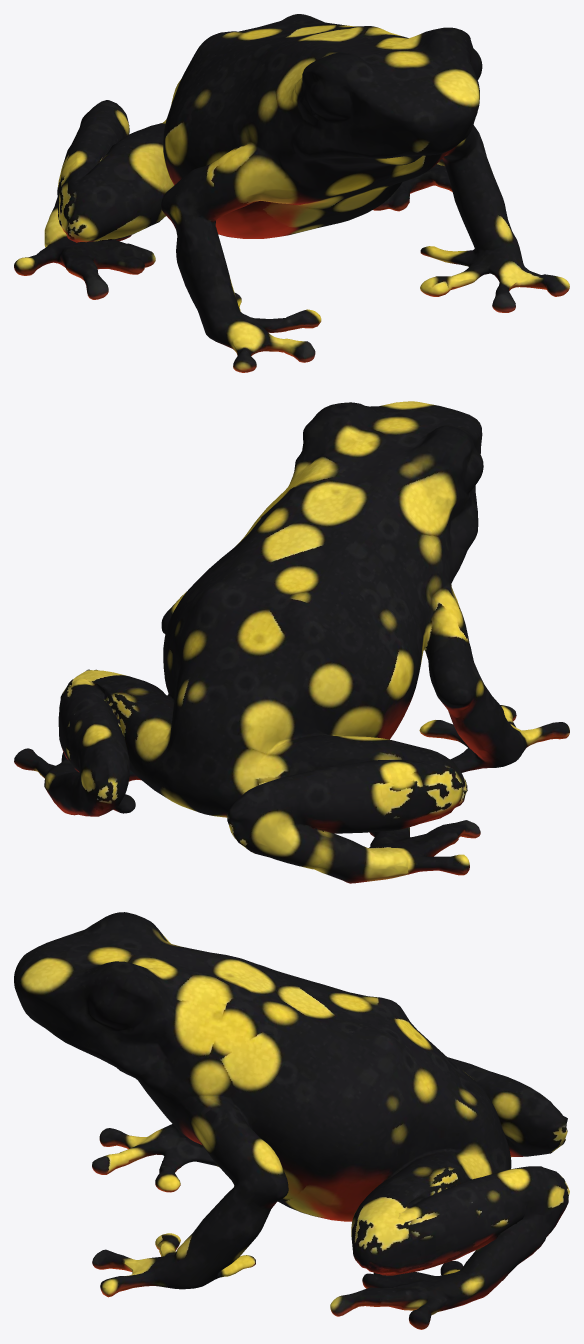
Rendered from bumblebee.glb.
3 views of the same model, one above another, from view 1: azimuth 30°, elevation 25°; view 2: azimuth 150°, elevation 25°; view 3: azimuth 270°, elevation 25° (orthographic). The views are drawn at different scales.
Parts seen in each view (by area): view 1: bumblebee; view 2: bumblebee; view 3: bumblebee.
Part boxes in pixels (x1=…): bumblebee: x1=14, y1=14, x2=569, y2=372; bumblebee: x1=14, y1=401, x2=569, y2=883; bumblebee: x1=14, y1=912, x2=569, y2=1329.
Bounding box in the file's own units: 0.0262 × 0.0164 × 0.0286.
Materials: 1 (1 with a texture image).
